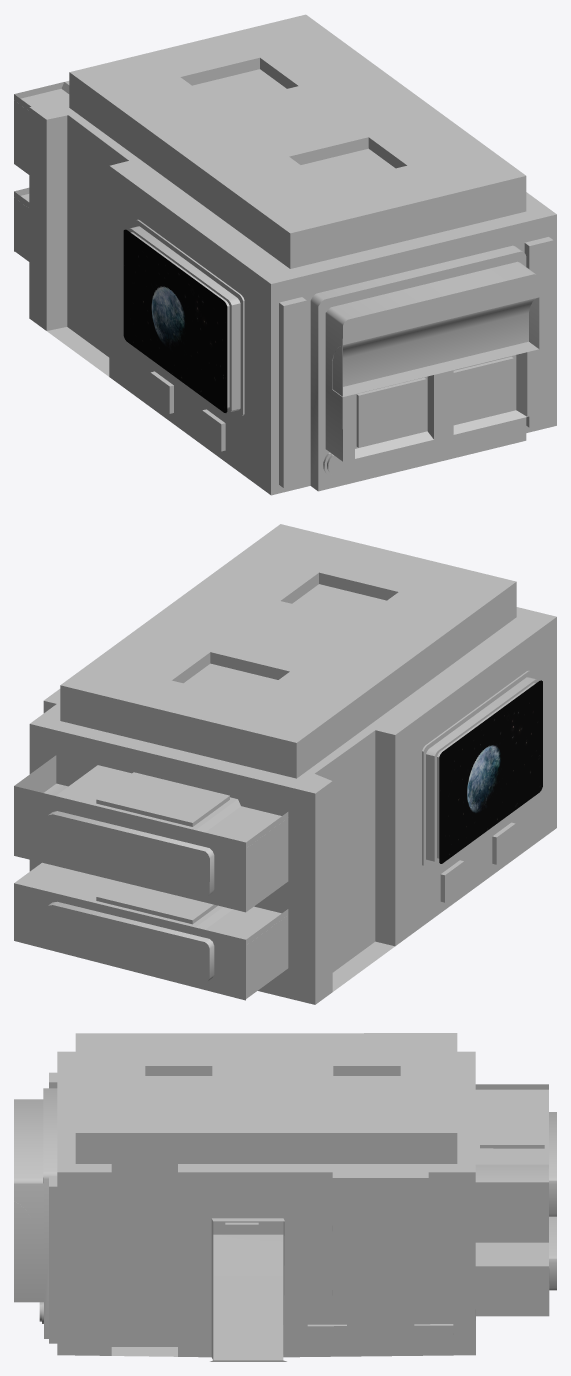
Rendered from Room_01.fbx.
The picture shows the model from 3 angles, top to bottom: view 1: azimuth 30°, elevation 25°; view 2: azimuth 150°, elevation 25°; view 3: azimuth 270°, elevation 25°; orthographic projection. The views are drawn at different scales.
Parts seen in each view (by area): view 1: Room; view 2: Room; view 3: Room.
Part boxes in pixels (x1=…): Room: x1=14, y1=14, x2=556, y2=495; Room: x1=14, y1=524, x2=556, y2=1004; Room: x1=14, y1=1033, x2=556, y2=1361.
Size of the model in its own units: 402 by 307 by 696.
